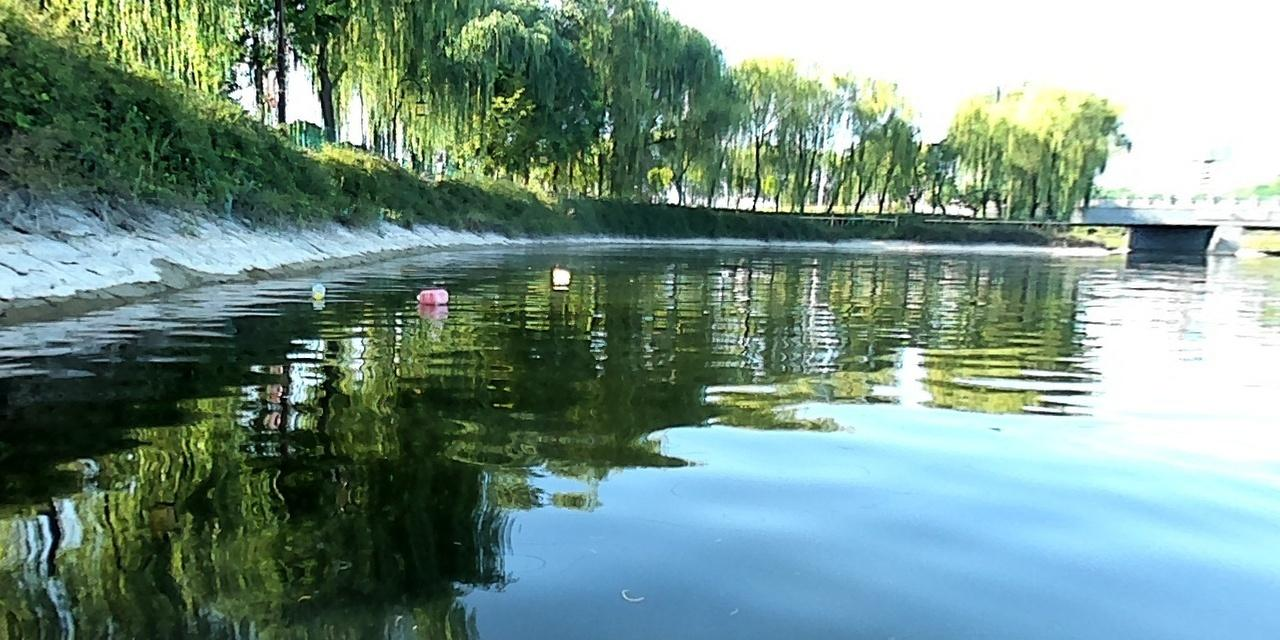bottle: (414, 287, 451, 305), (308, 278, 326, 303), (547, 265, 572, 281)
